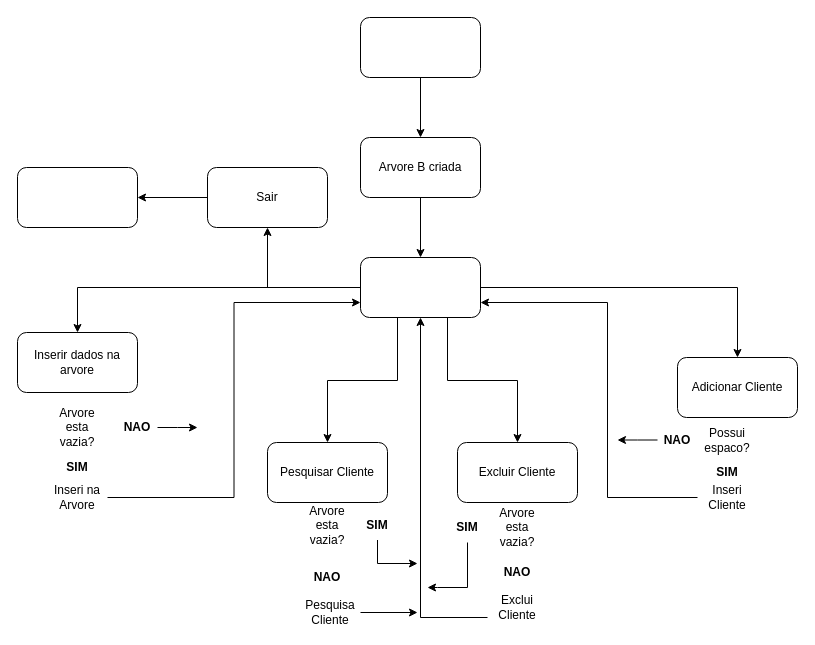
Some shapes in this 815 by 645 pixel diagram are drawn without their labels. The shapes that lost their labels are listed below. From the top down, each one's centre as x and y in pixels, then its label:
(420,47): Lista declarada
(77,197): Finalizar excecucao
(420,287): Opcoes
